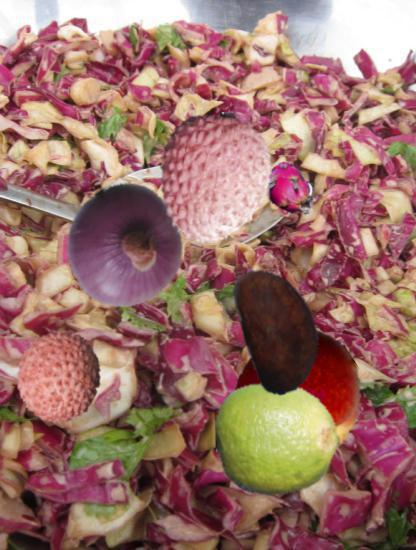Chestnut: (214, 264, 345, 395)
Limes: (216, 377, 340, 501)
Lychee: (148, 112, 283, 247), (11, 328, 108, 425)
Nectarine: (226, 328, 365, 467)
Onion: (63, 183, 188, 308)
Pitahaya: (261, 161, 321, 221)
